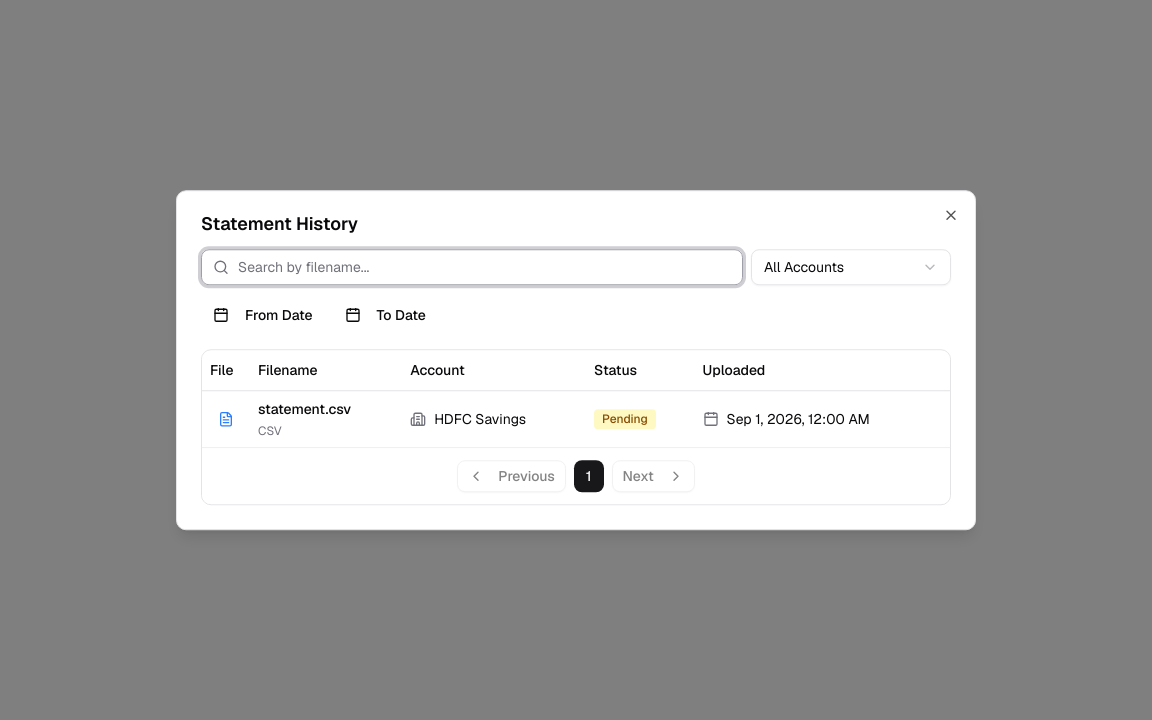
Test: ViewStatementsModal › filters by search and clears the filters
Expected: the text "statement.csv" is shown, x1=258 y1=400 x2=351 y2=418
Type "coffee" into the field with placeholder "Search by filename..." at coordinates (472, 267), box x1=201 y1=249 x2=743 y2=285
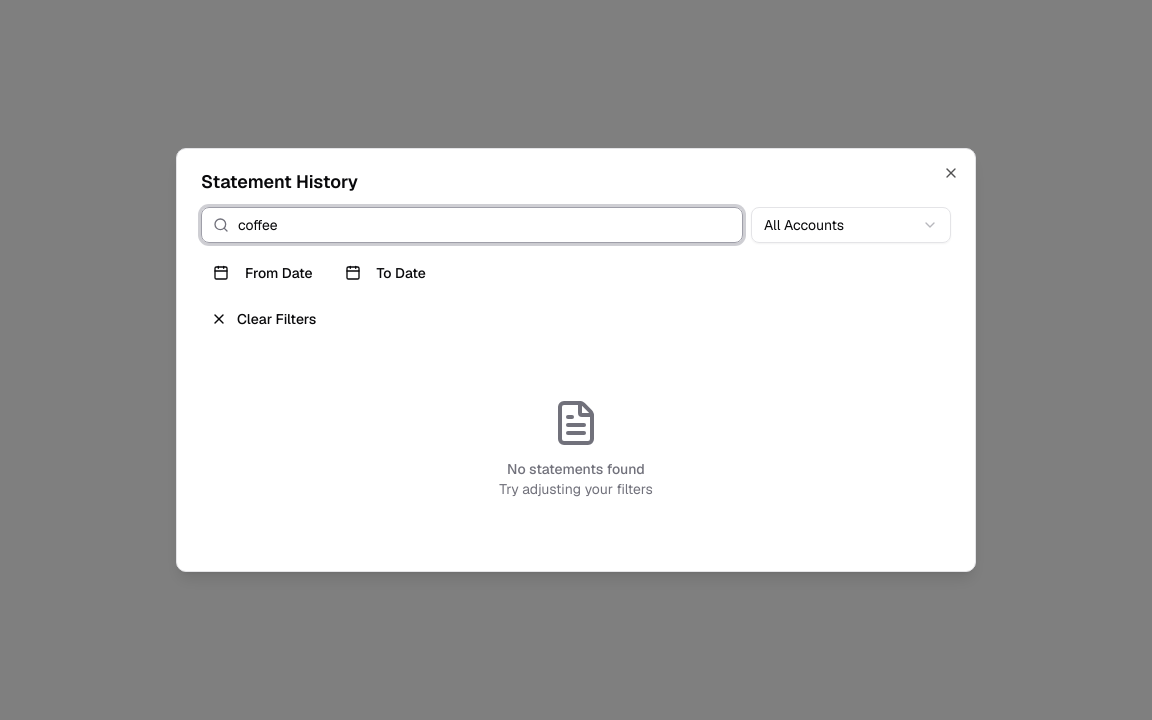
Result: the text "No statements found" is shown at x1=499 y1=459 x2=653 y2=479
Result: the text "Try adjusting your filters" is shown at x1=499 y1=479 x2=653 y2=499
Click the button "Clear Filters" at coordinates (264, 319), box x1=201 y1=303 x2=326 y2=335
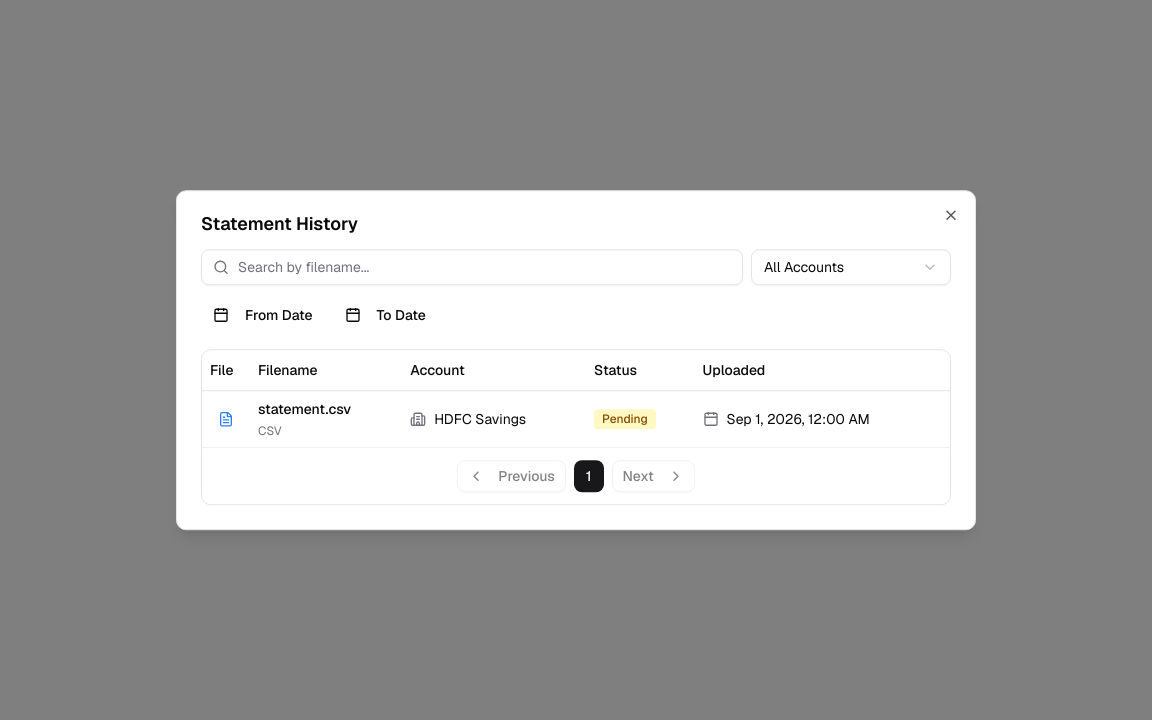
Result: the text "statement.csv" is shown at x1=258 y1=400 x2=351 y2=418
Result: the field with placeholder "Search by filename..." is empty at x1=201 y1=249 x2=743 y2=285
Result: the button "Clear Filters" is gone
